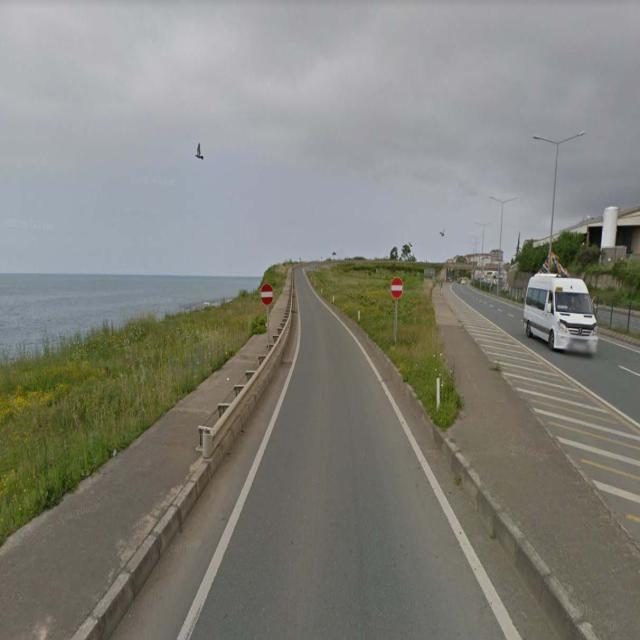girisyok: (390, 277, 405, 298), (261, 284, 274, 306)
